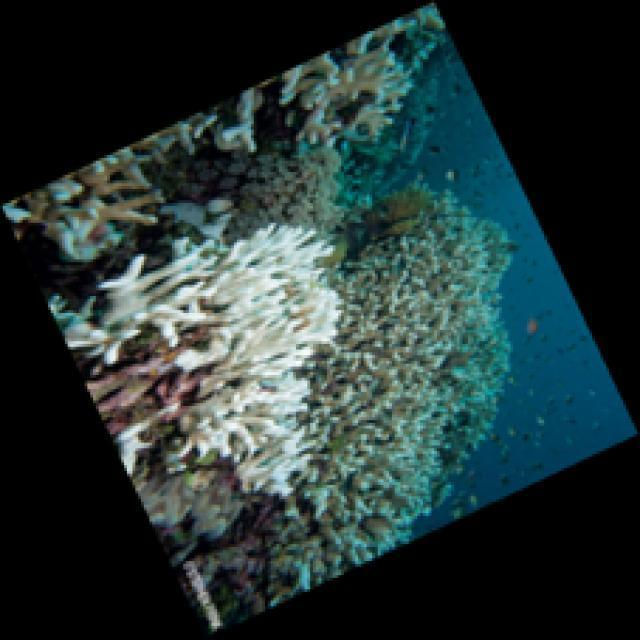Bleached: (1, 1, 443, 263), (262, 198, 515, 621), (56, 224, 343, 504)
